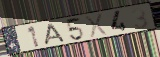1: (27, 25, 41, 48)
3: (131, 6, 150, 30)
4: (110, 9, 131, 34)
5: (64, 16, 85, 42)
A: (45, 22, 68, 46)
X: (85, 12, 109, 39)
